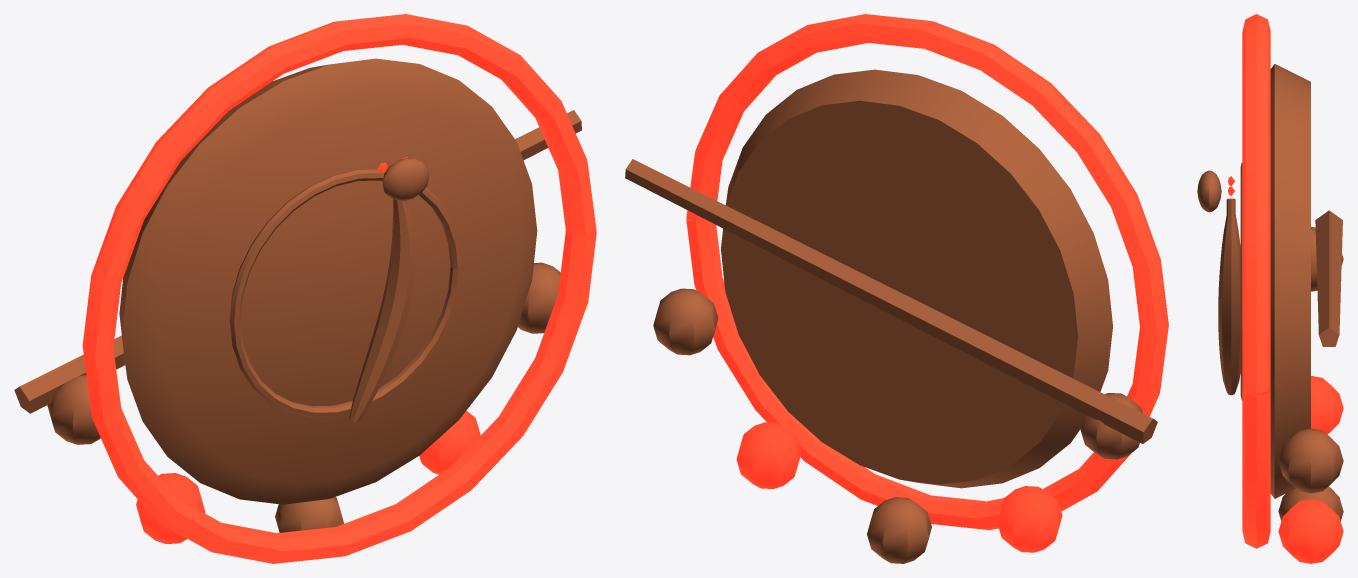
Rendered from asc_abyssal_fang_accessory.glb.
3 views of the same model, side by side, from view 1: azimuth 30°, elevation 25°; view 2: azimuth 150°, elevation 25°; view 3: azimuth 270°, elevation 25° (orthographic). The views are drawn at different scales.
Parts seen in each view (by area): view 1: asc_abyssal_fang_accessory; view 2: asc_abyssal_fang_accessory; view 3: asc_abyssal_fang_accessory.
Part boxes in pixels (x1,y1,x2,y2): asc_abyssal_fang_accessory: [14, 14, 596, 563]; asc_abyssal_fang_accessory: [625, 14, 1168, 563]; asc_abyssal_fang_accessory: [1197, 14, 1343, 563].
Bounding box in the file's own units: 0.1616 × 0.153 × 0.0404.
